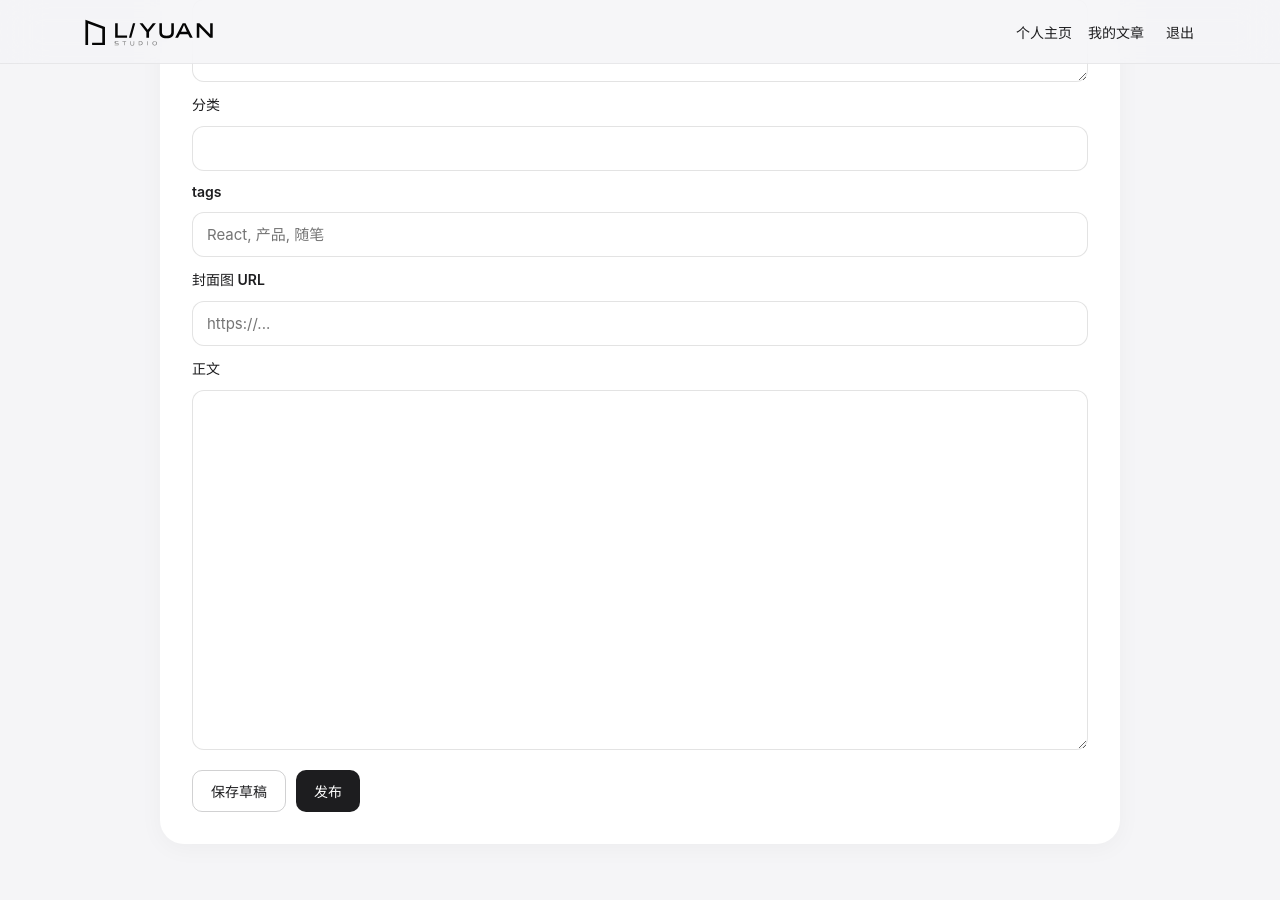
Scenario: ProfilePage › loads an existing post with optional defaults and publishes an update
This screenshot has width=1280, height=900.
(page scrolled)
Expected: the text box labelled "摘要" is empty, [192,0,1088,82]
Expected: the field labelled "tags" is empty, [192,212,1088,257]
Type "Published body" into the text box labelled "正文" at (640, 570), box [192,390,1088,750]
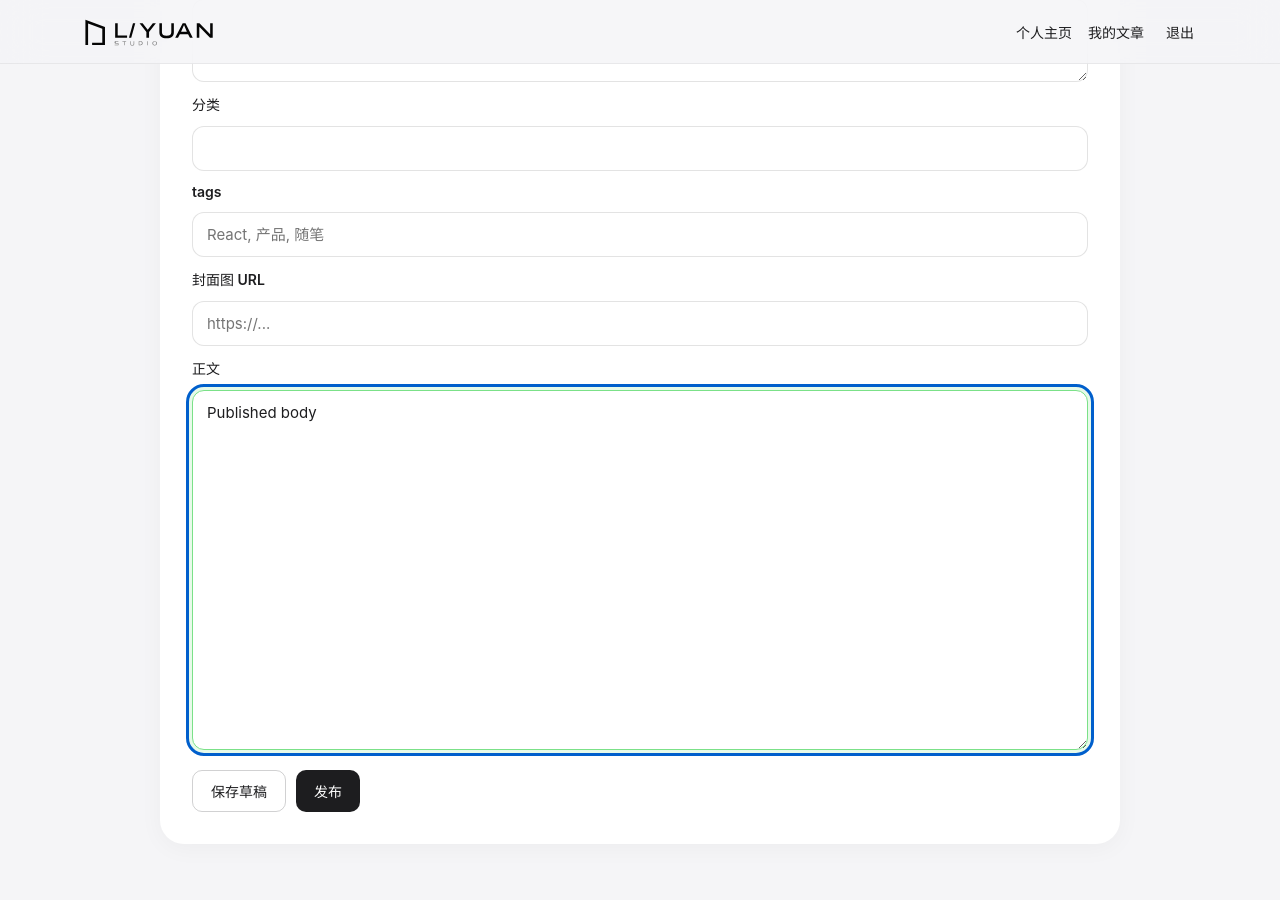
Click the button "发布" at (328, 791), box [296,770,360,812]
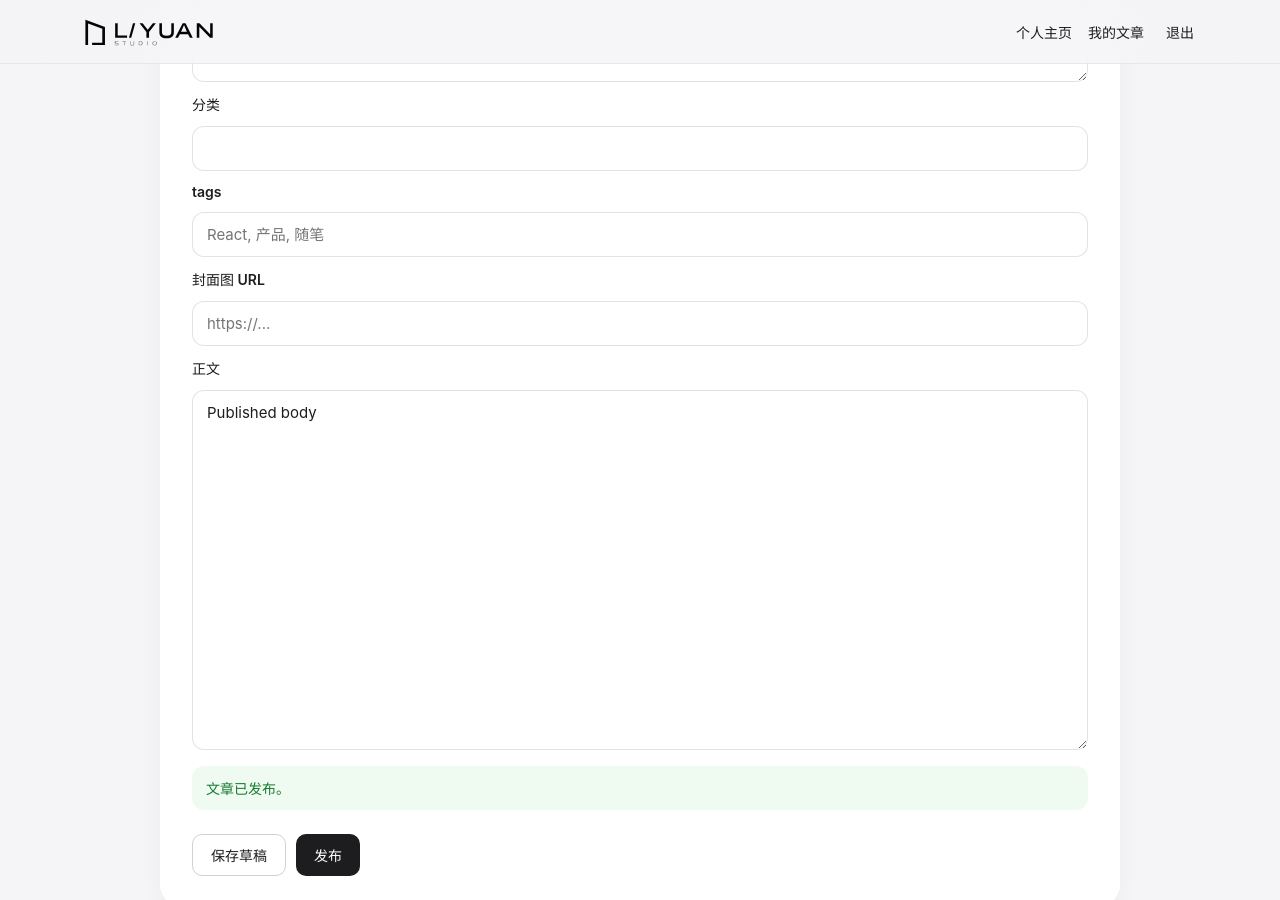
Now the message reads "文章已发布。", box [206,780,290,797]
